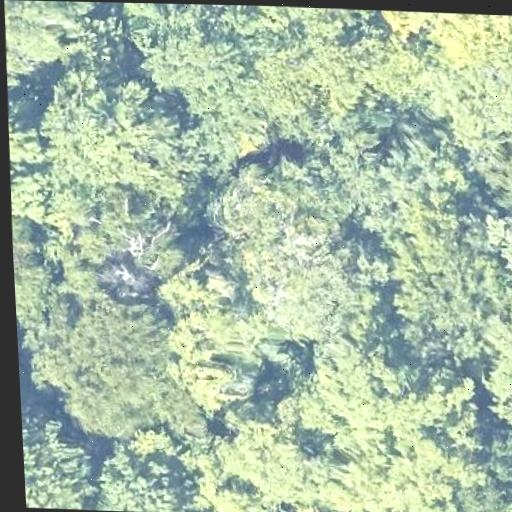tree-top: (203, 150, 395, 342), (20, 292, 206, 444), (124, 6, 284, 159), (290, 344, 469, 476), (37, 65, 191, 214), (381, 192, 512, 362), (35, 173, 188, 307), (154, 257, 270, 422), (332, 420, 469, 512), (267, 88, 401, 175), (192, 421, 320, 512), (370, 110, 476, 207), (294, 34, 424, 111), (21, 406, 111, 511), (416, 60, 512, 149), (366, 9, 512, 67), (3, 0, 89, 96), (98, 438, 202, 512), (5, 90, 55, 229), (225, 5, 376, 51), (471, 285, 512, 439), (11, 210, 53, 337), (450, 438, 512, 512), (473, 141, 512, 221), (490, 206, 512, 294), (491, 493, 512, 512)
